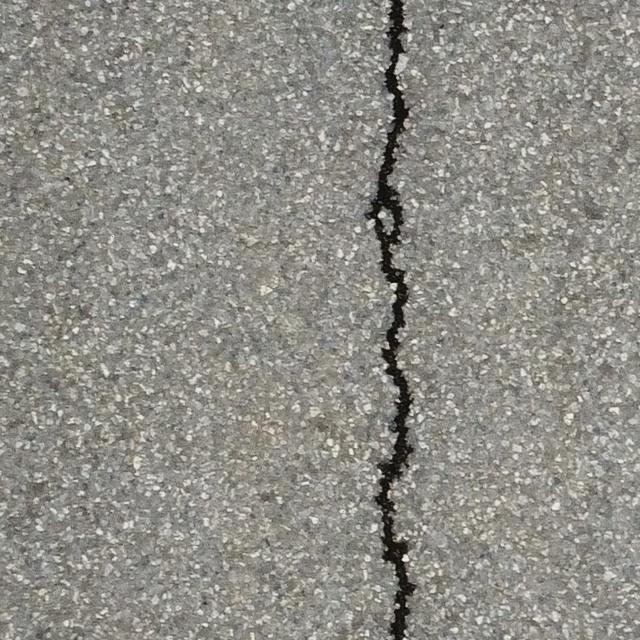LongitudinalCrack: (368, 2, 418, 640)
